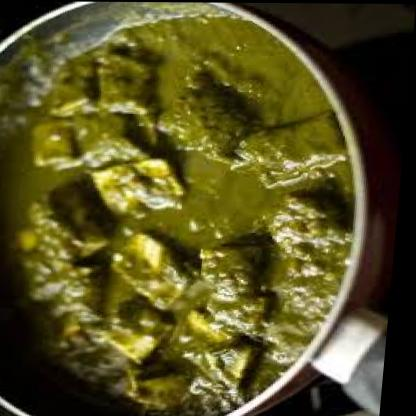palak_paneer: (0, 14, 374, 416)
